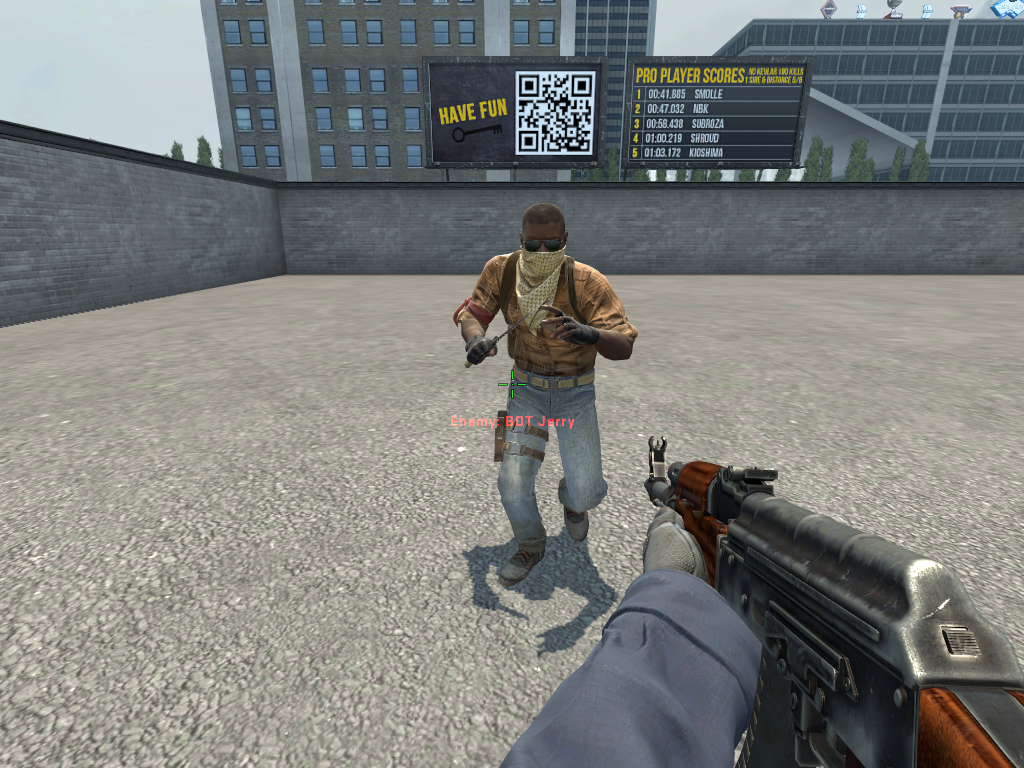tr head: (516, 198, 572, 281)
